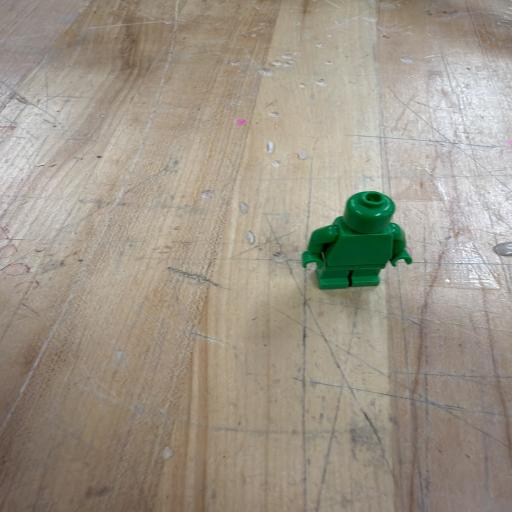Green-Lego: (302, 191, 412, 289)
